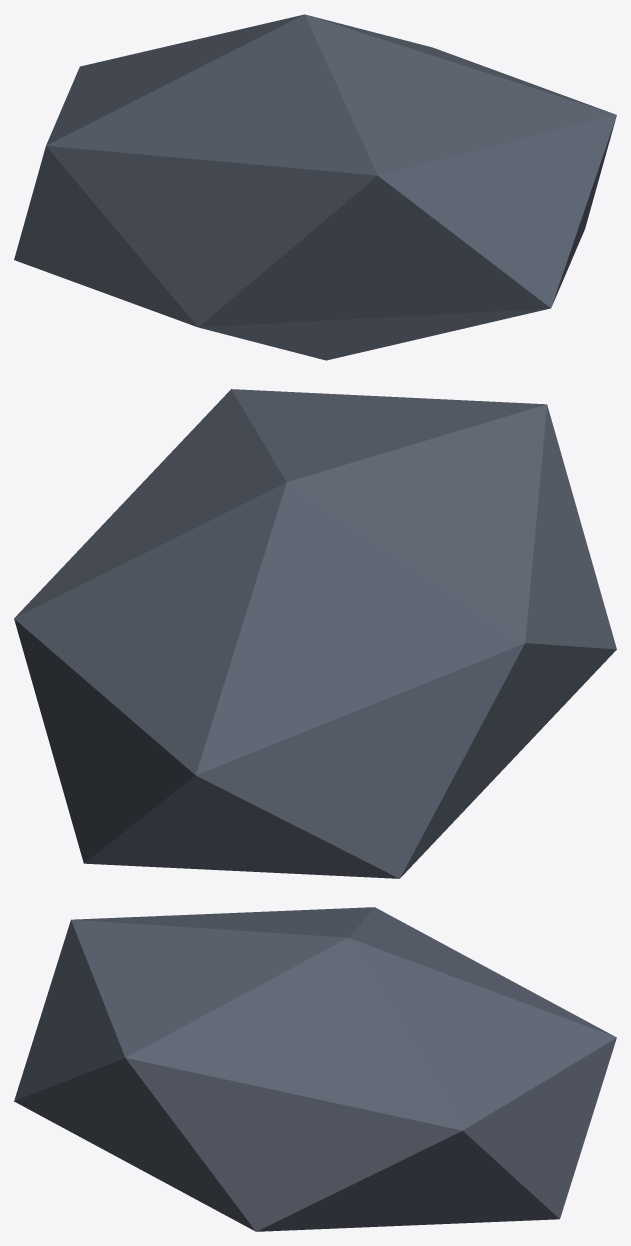
The model's file is EXT_SouthCliff_07_Shard_1.glb.
3 views of the same model, one above another, from view 1: azimuth 30°, elevation 25°; view 2: azimuth 150°, elevation 25°; view 3: azimuth 270°, elevation 25° (orthographic). The views are drawn at different scales.
Parts seen in each view (by area): view 1: EXT_SouthCliff_07_Shard_1; view 2: EXT_SouthCliff_07_Shard_1; view 3: EXT_SouthCliff_07_Shard_1.
Boxes of the visible parts, box(x1,y1,x2,y2) form: EXT_SouthCliff_07_Shard_1: box(14, 14, 616, 360); EXT_SouthCliff_07_Shard_1: box(14, 389, 616, 878); EXT_SouthCliff_07_Shard_1: box(14, 907, 616, 1231).
Size of the model in its own units: 1.28 by 0.8191 by 1.65.
